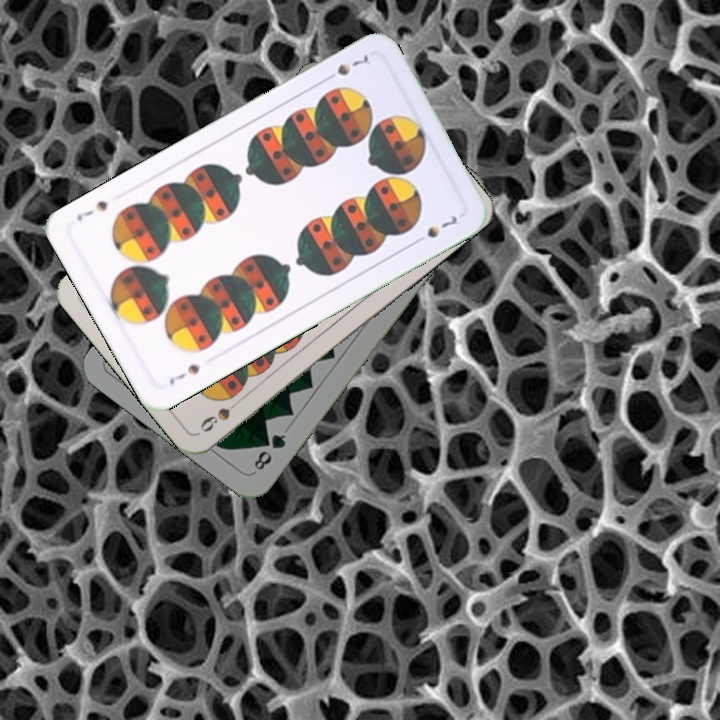G8: (249, 429, 289, 473)
S7: (319, 51, 372, 84), (165, 360, 203, 387)
S9: (196, 393, 246, 435)
